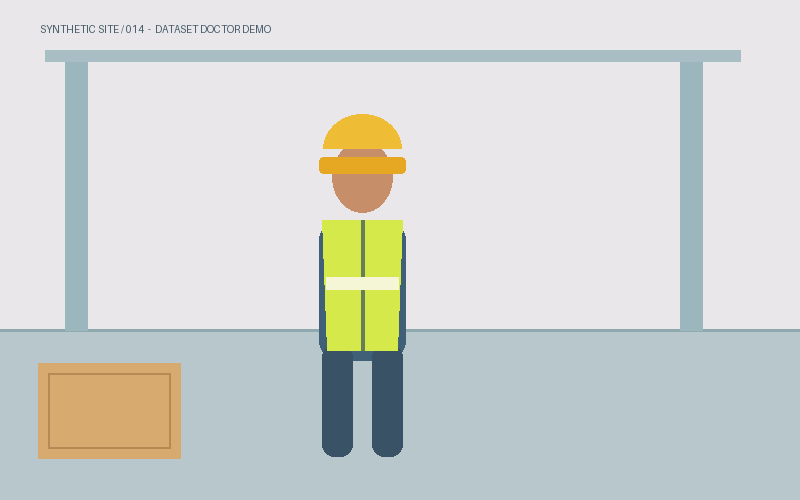Reflective-Jacket: (322, 220, 402, 350)
Safety-Helmet: (319, 127, 405, 173)
